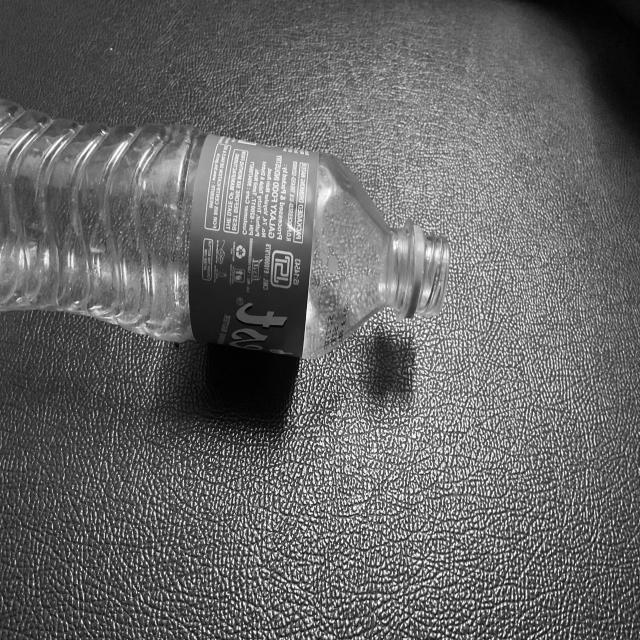open-cap: (399, 223, 450, 326)
